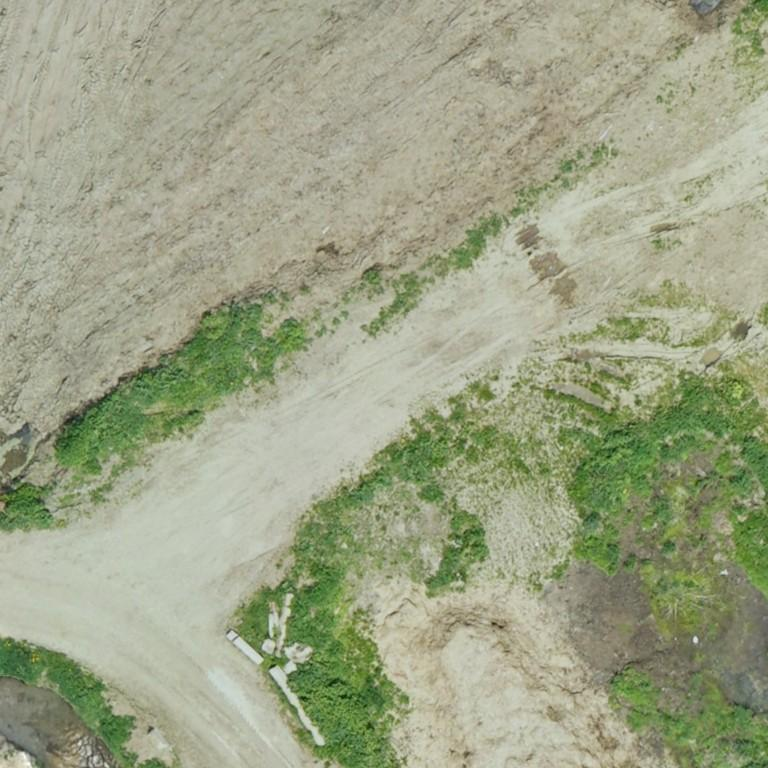hogweed: (0, 643, 130, 740), (287, 652, 390, 767), (0, 484, 50, 530), (742, 436, 767, 490)
